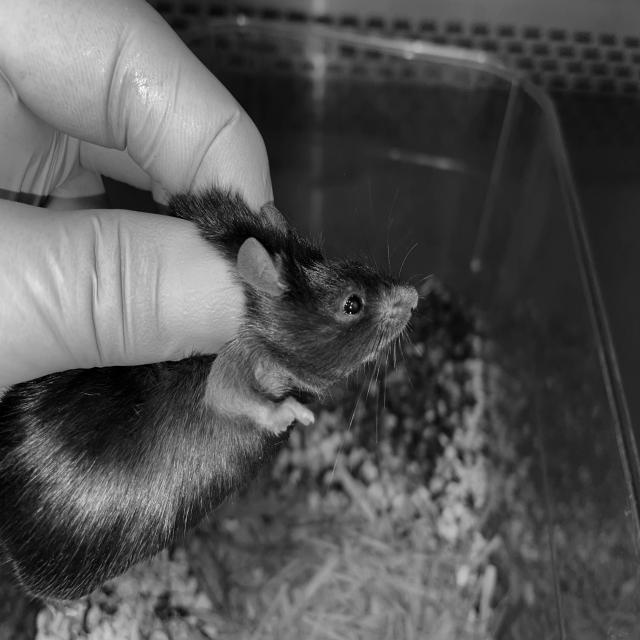Face: (230, 198, 424, 437)
